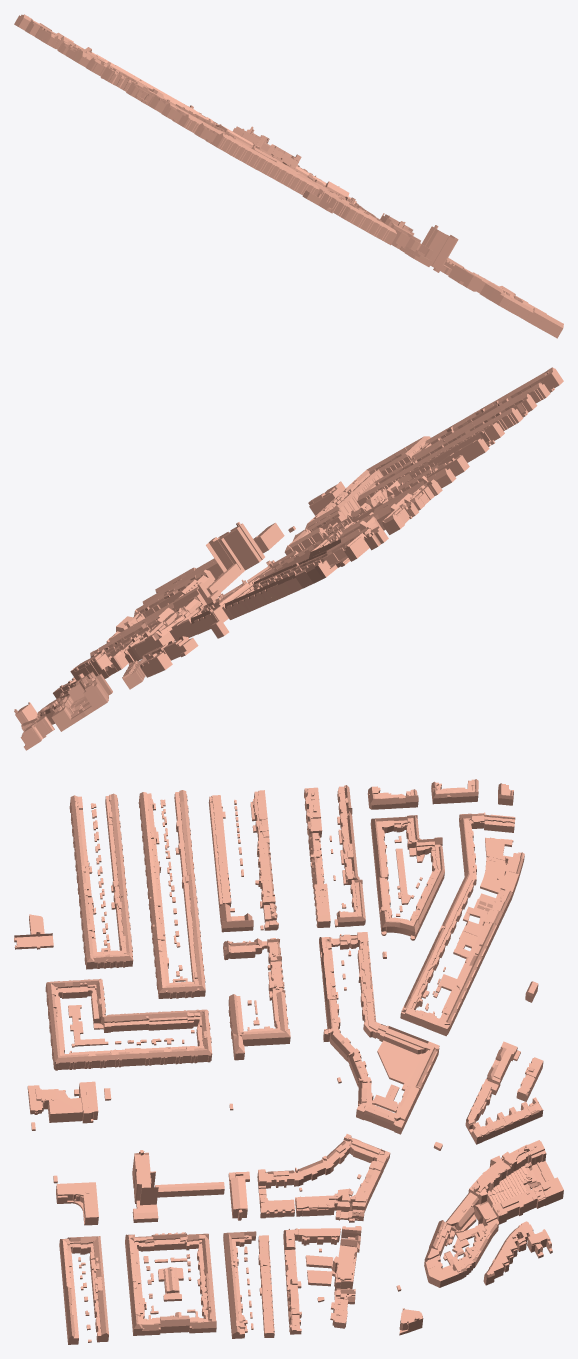
3 views of the same model, one above another, from view 1: azimuth 30°, elevation 25°; view 2: azimuth 150°, elevation 25°; view 3: azimuth 270°, elevation 25° (orthographic). The views are drawn at different scales.
Bounding box in the file's own units: 1.72e+07 × 1.25e+07 × 1.78e+07.
